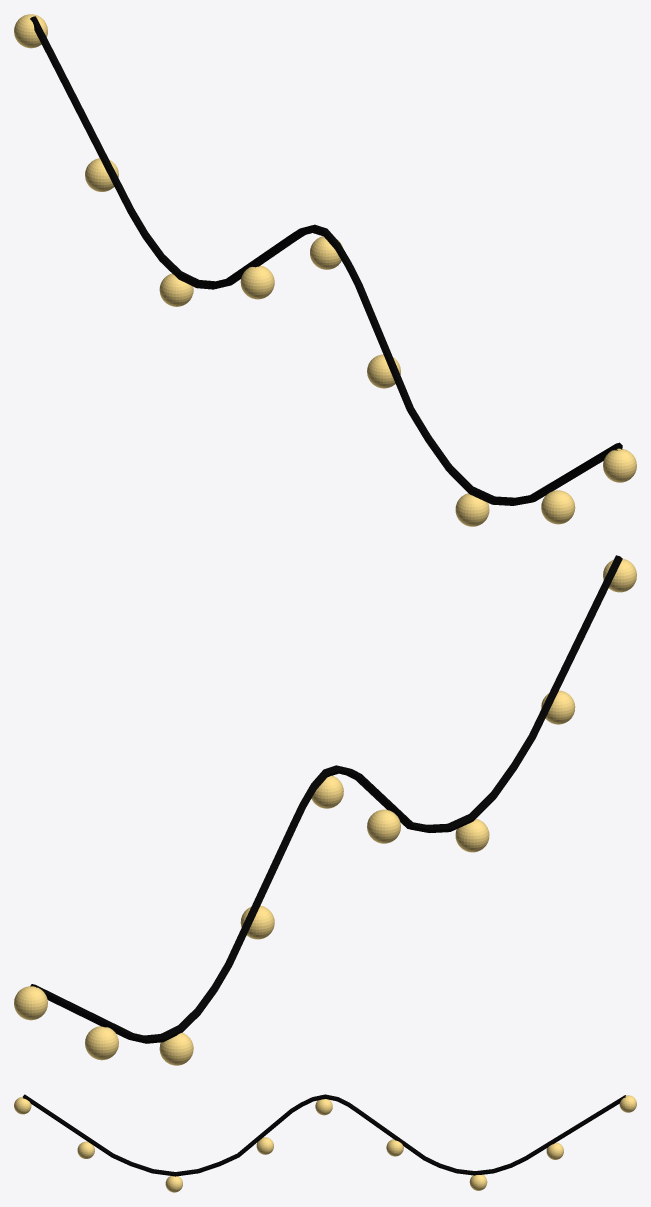
File: STRING LIGHTS.glb
The picture shows the model from 3 angles, top to bottom: view 1: azimuth 30°, elevation 25°; view 2: azimuth 150°, elevation 25°; view 3: azimuth 270°, elevation 25°; orthographic projection. The views are drawn at different scales.
Parts seen in each view (by area): view 1: STRING LIGHT; view 2: STRING LIGHT; view 3: STRING LIGHT.
Part boxes in pixels (bbox=[...]): STRING LIGHT: bbox=[14, 14, 636, 526]; STRING LIGHT: bbox=[14, 555, 636, 1065]; STRING LIGHT: bbox=[14, 1094, 636, 1192].
Bounding box in the file's own units: 0.428 × 2.61 × 15.21.
